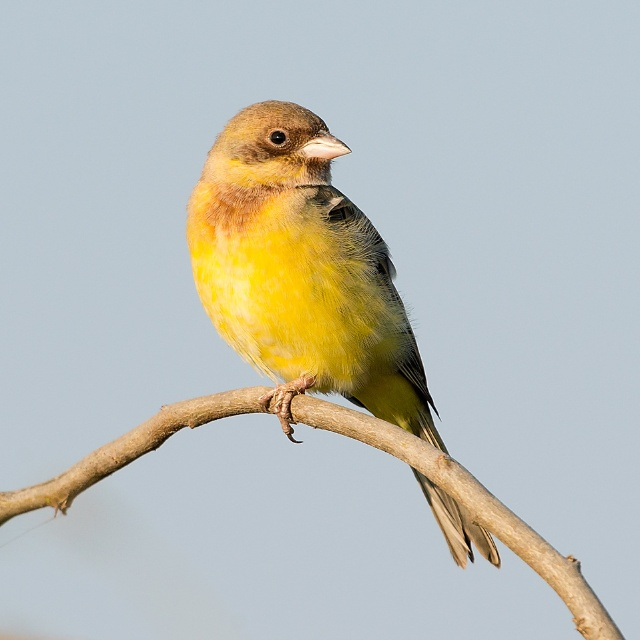Canary: (186, 99, 501, 571)
